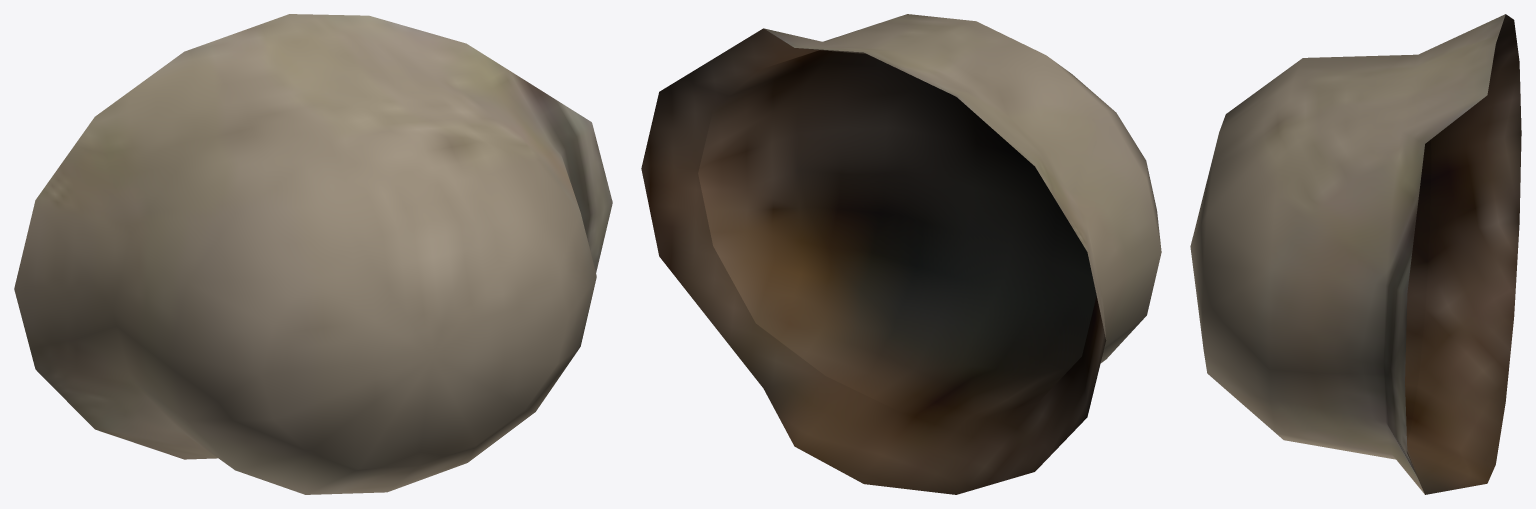
Rendered from helmet_german_casual_africa.glb.
3 renders of one model, left to right at view 1: azimuth 30°, elevation 25°; view 2: azimuth 150°, elevation 25°; view 3: azimuth 270°, elevation 25°, orthographic. The views are drawn at different scales.
Size of the model in its own units: 13.37 by 10.51 by 7.5.
Materials: 1 (1 with a texture image).
